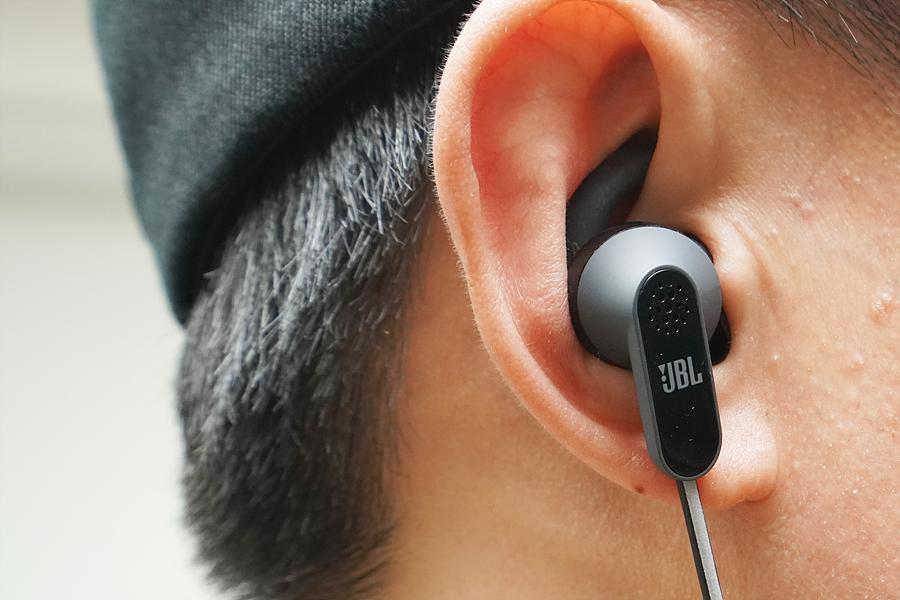earphone: (542, 134, 742, 483)
